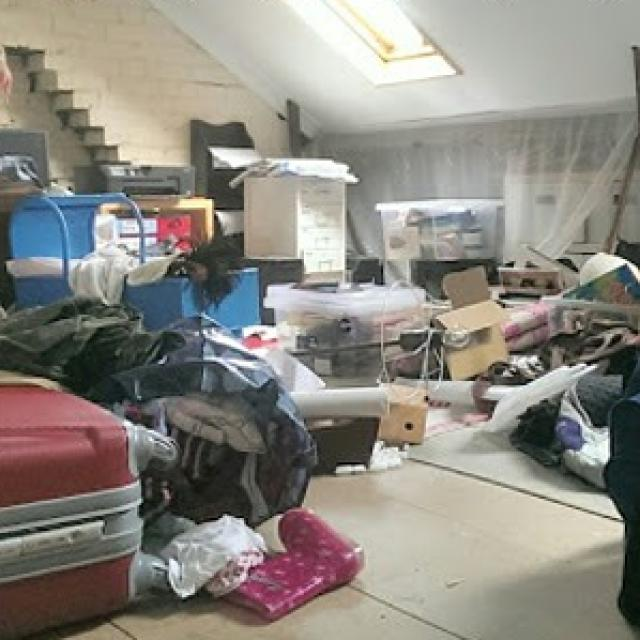mess: (0, 184, 640, 638)
